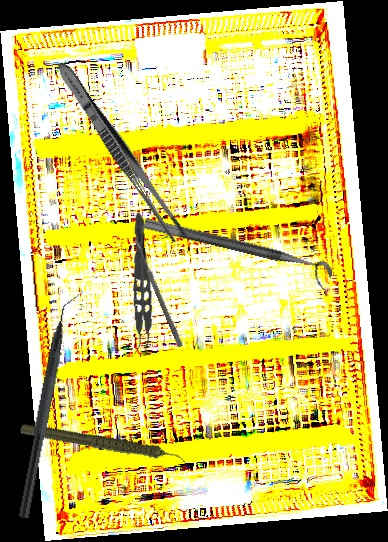Chopper: (17, 284, 86, 523)
Dressing Forceps: (50, 58, 191, 245)
Fixation Ring: (139, 216, 335, 292)
Handpiece: (18, 390, 189, 501)
Surgical Spoon: (132, 236, 184, 348)
Tissue Forceps: (122, 211, 156, 357)
